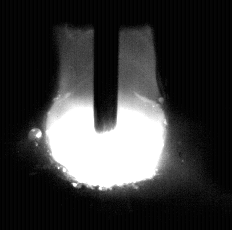arame: (95, 0, 118, 133)
poca: (44, 0, 166, 230)
